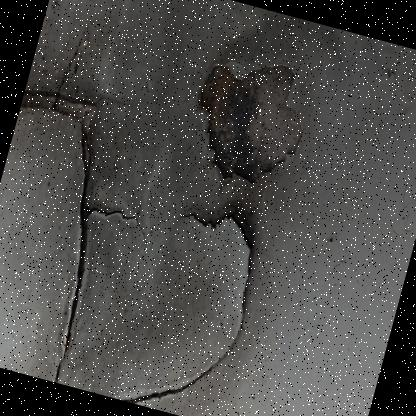Crack: (110, 12, 338, 415), (0, 12, 198, 396)
